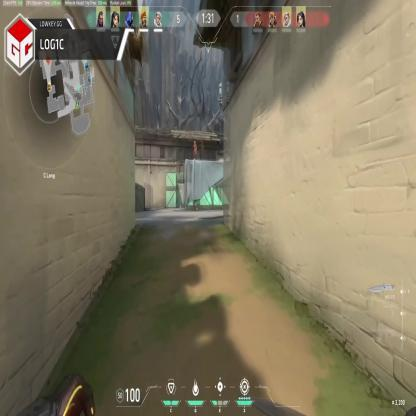enemy: (192, 139, 196, 159)
enemy_head: (194, 140, 196, 146)
